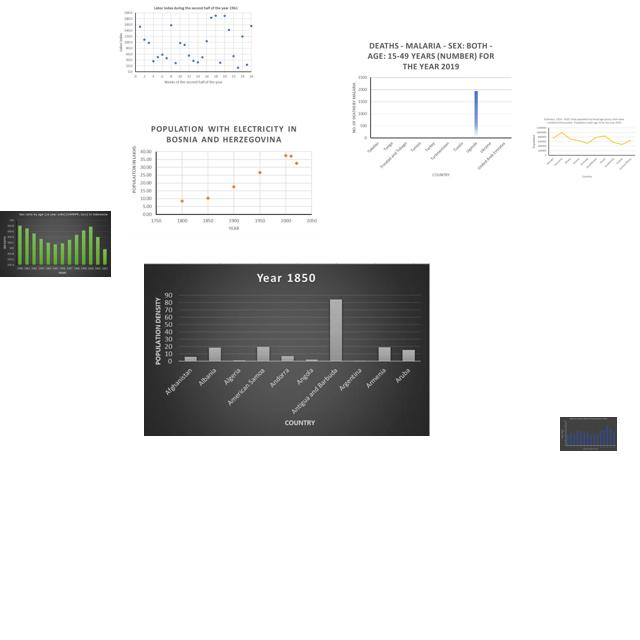Graph: (144, 263, 430, 436), (348, 39, 515, 181), (127, 120, 321, 238), (118, 5, 255, 85), (0, 211, 111, 277), (531, 116, 637, 179), (560, 417, 617, 451)
